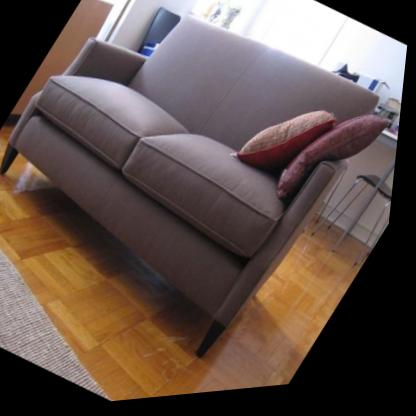Carpet: (0, 246, 116, 402)
Chair: (307, 134, 402, 281)
Sofa: (0, 0, 403, 394)
Wooden floor: (183, 229, 375, 400)
